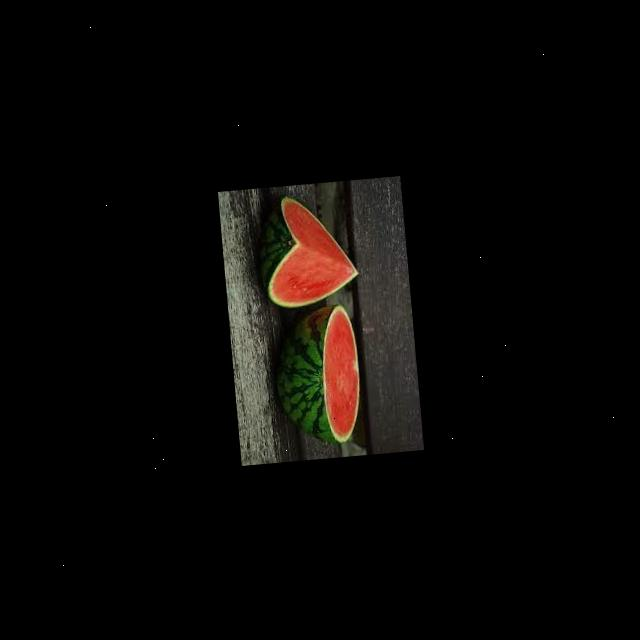watermelon: (269, 302, 364, 448), (252, 190, 362, 310)
